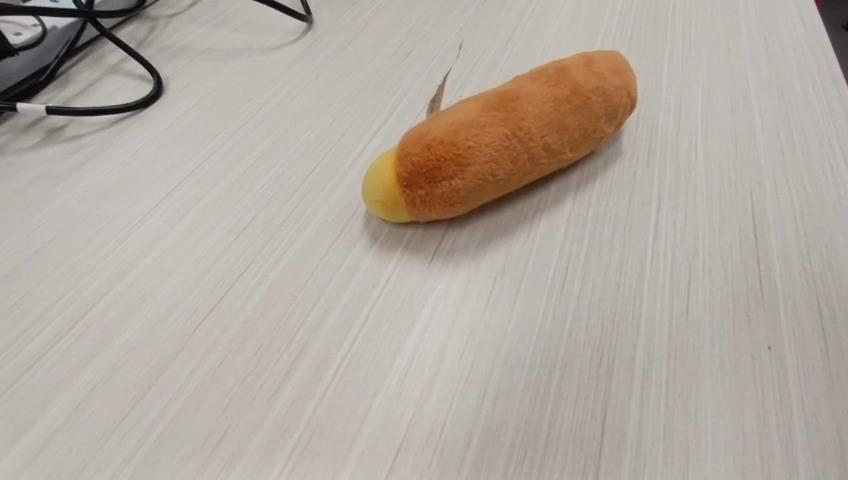hotdog: (360, 45, 638, 224)
